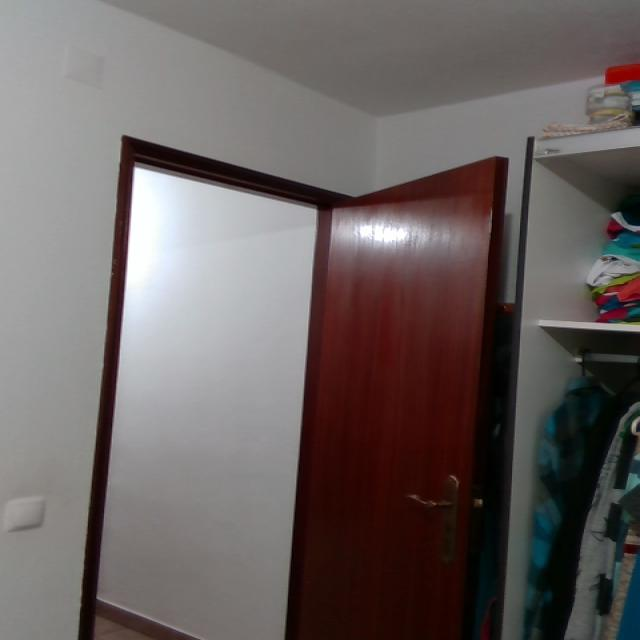door: (51, 131, 531, 640)
